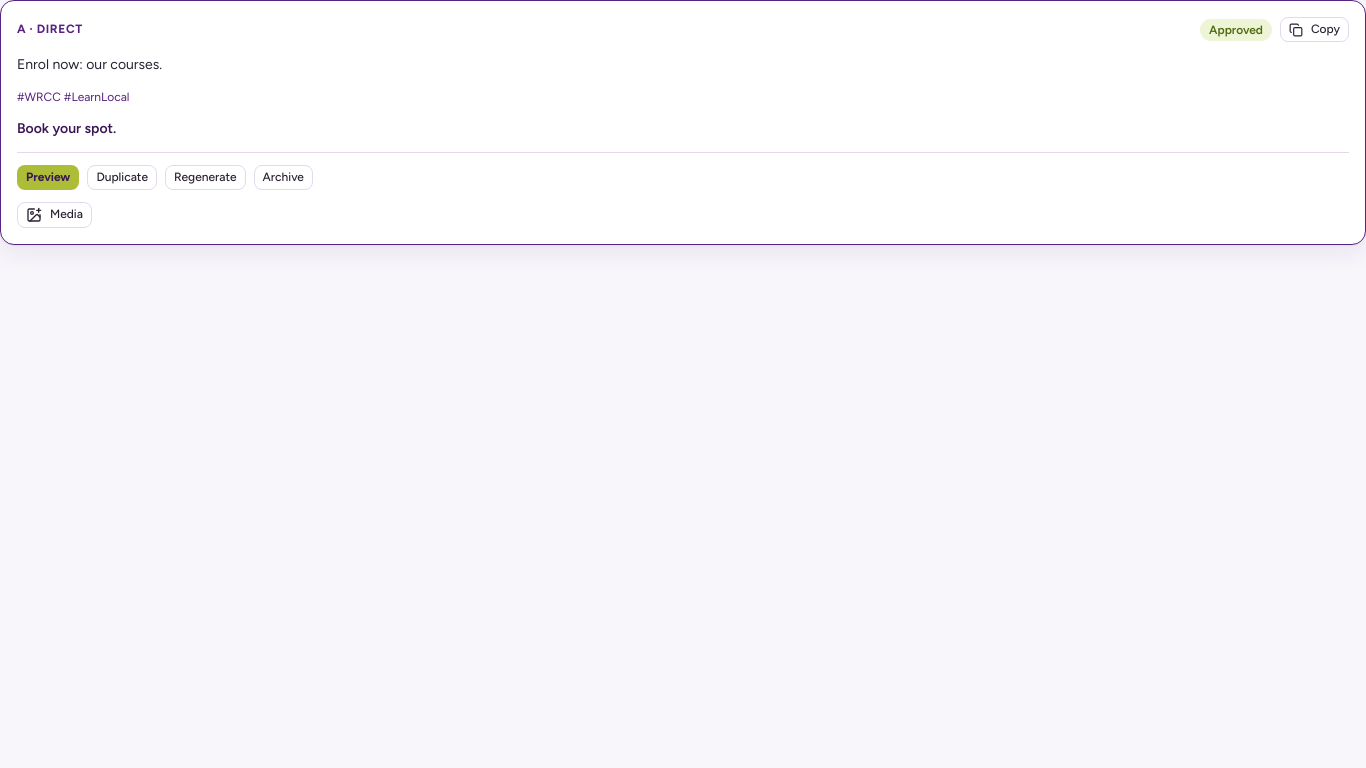
it: VariantCard publishing › opens the publish dialog rather than posting straight from the card
Click the button "Preview".
click(48, 178)  # box 17,165 -> 79,190
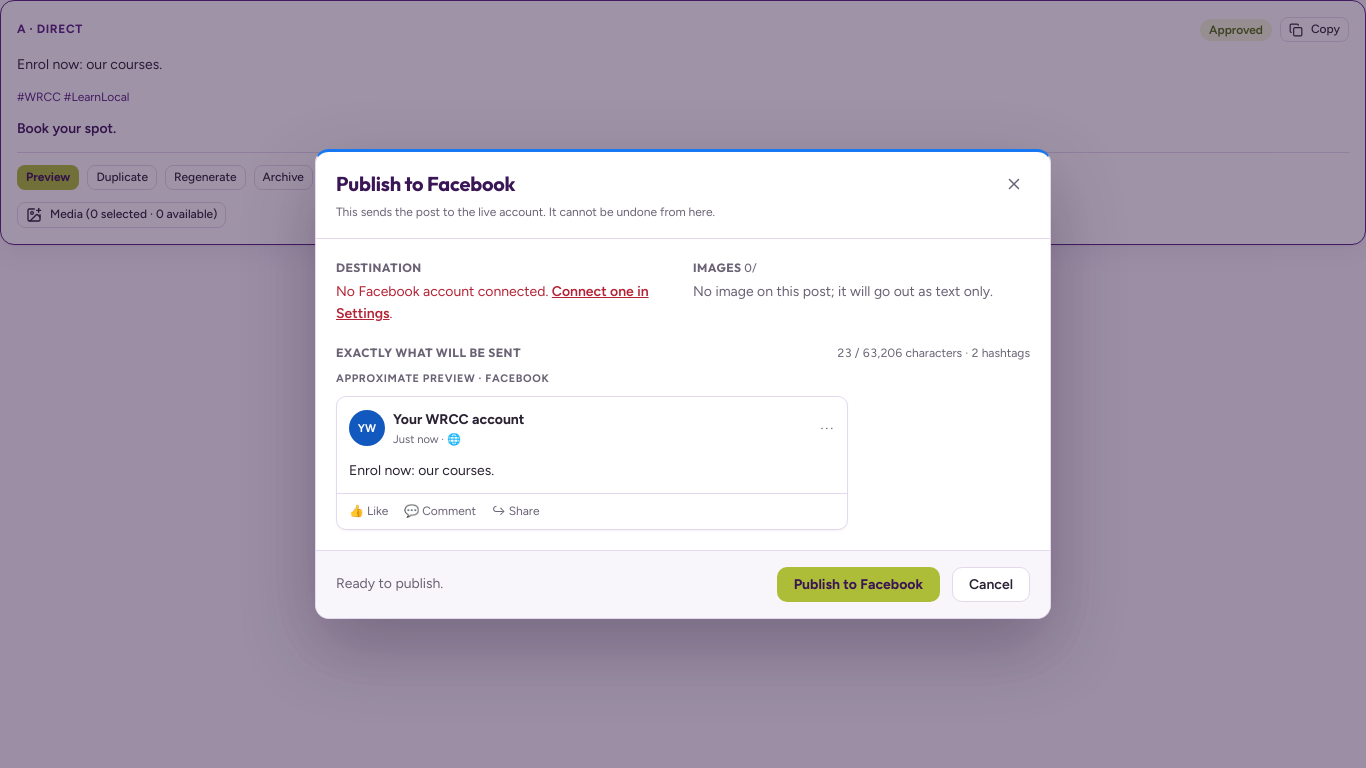
Expected: the dialog is shown, 315,149 -> 1051,619
